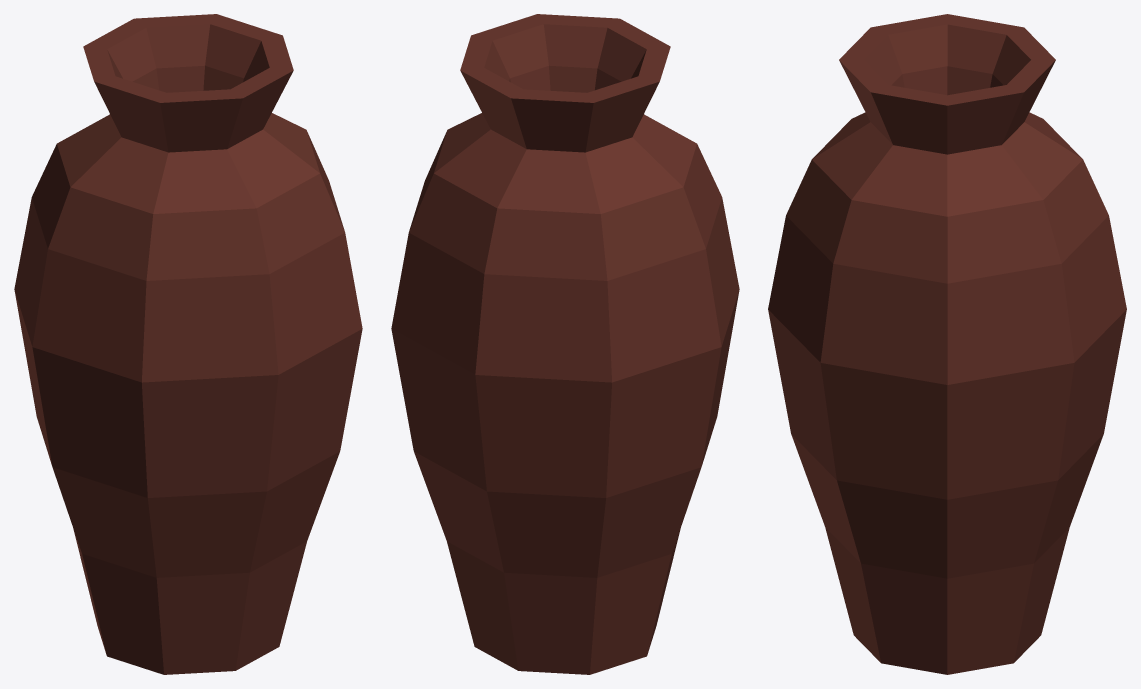
File: 004_Vase.fbx
3 views of the same model, side by side, from view 1: azimuth 30°, elevation 25°; view 2: azimuth 150°, elevation 25°; view 3: azimuth 270°, elevation 25° (orthographic).
Visible parts, largest first — view 1: Vase; view 2: Vase; view 3: Vase.
Part boxes in pixels (x1,y1,x2,y2): Vase: (14, 14, 362, 674); Vase: (391, 14, 739, 674); Vase: (768, 14, 1126, 674).
Bounding box in the file's own units: 52.27 × 92.47 × 52.27.
